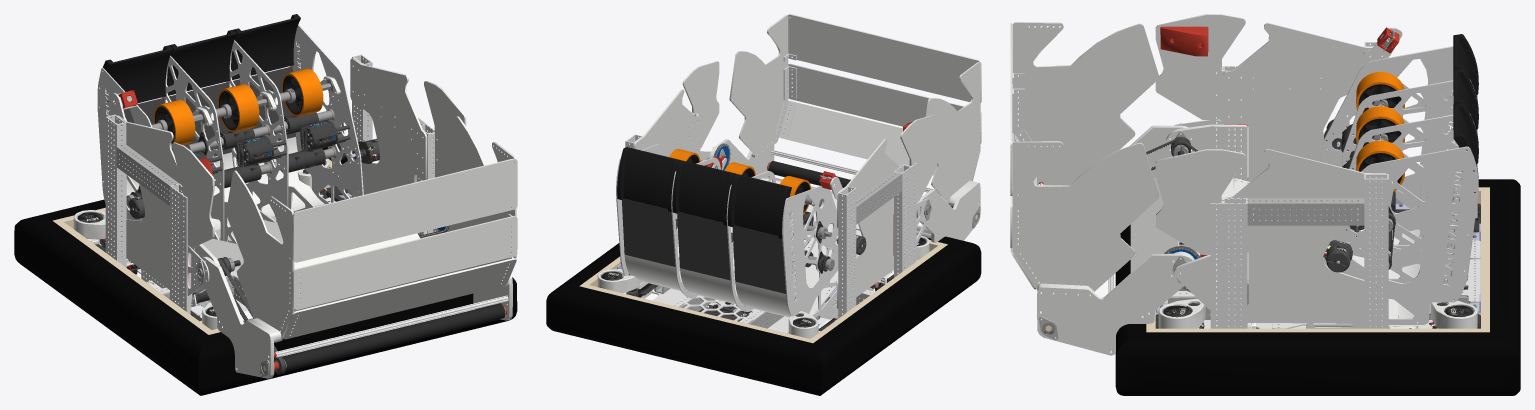
The model's file is robot.glb.
3 views of the same model, side by side, from view 1: azimuth 30°, elevation 25°; view 2: azimuth 150°, elevation 25°; view 3: azimuth 270°, elevation 25° (orthographic). The views are drawn at different scales.
Parts seen in each view (by area): view 1: static, anim_frc_arm, anim_frc_bumpers, anim_frc_fold, anim_frc_fly, anim_frc_roller, anim_frc_lower, anim_frc_upper, anim_frc_rollerBelt, anim_frc_SWERVE_LH_1; view 2: static, anim_frc_bumpers, anim_frc_arm, anim_frc_fold, anim_frc_fly, anim_frc_roller, anim_frc_SWERVE_RH_1; view 3: static, anim_frc_arm, anim_frc_bumpers, anim_frc_fly, anim_frc_fold, anim_frc_SWERVE_RH_1.
Boxes of the visible parts, x1=… form: static: x1=53, y1=14, x2=466, y2=334; anim_frc_arm: x1=201, y1=116, x2=517, y2=378; anim_frc_bumpers: x1=14, y1=147, x2=517, y2=395; anim_frc_fold: x1=292, y1=158, x2=517, y2=262; anim_frc_fly: x1=152, y1=68, x2=331, y2=146; anim_frc_roller: x1=263, y1=303, x2=506, y2=374; anim_frc_lower: x1=126, y1=143, x2=345, y2=208; anim_frc_upper: x1=171, y1=112, x2=318, y2=153; anim_frc_rollerBelt: x1=217, y1=258, x2=285, y2=373; anim_frc_SWERVE_LH_1: x1=77, y1=212, x2=140, y2=275; static: x1=579, y1=61, x2=947, y2=343; anim_frc_bumpers: x1=546, y1=236, x2=981, y2=395; anim_frc_arm: x1=709, y1=15, x2=981, y2=242; anim_frc_fold: x1=783, y1=14, x2=981, y2=102; anim_frc_fly: x1=669, y1=149, x2=820, y2=214; anim_frc_roller: x1=767, y1=161, x2=977, y2=219; anim_frc_SWERVE_RH_1: x1=601, y1=271, x2=658, y2=298; static: x1=1146, y1=14, x2=1489, y2=332; anim_frc_arm: x1=1010, y1=22, x2=1197, y2=355; anim_frc_bumpers: x1=1115, y1=179, x2=1520, y2=395; anim_frc_fly: x1=1356, y1=71, x2=1404, y2=191; anim_frc_fold: x1=1010, y1=23, x2=1024, y2=196; anim_frc_SWERVE_RH_1: x1=1388, y1=302, x2=1480, y2=328.
Size of the model in its own units: 0.8382 by 0.5586 by 1.06.
